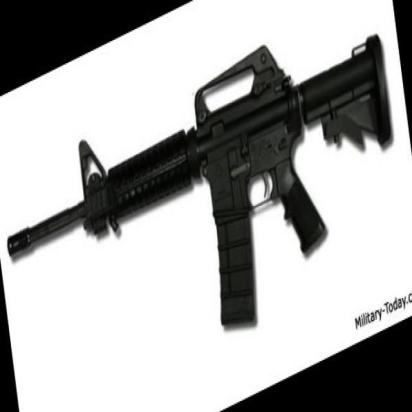Gun: (6, 33, 396, 328)
